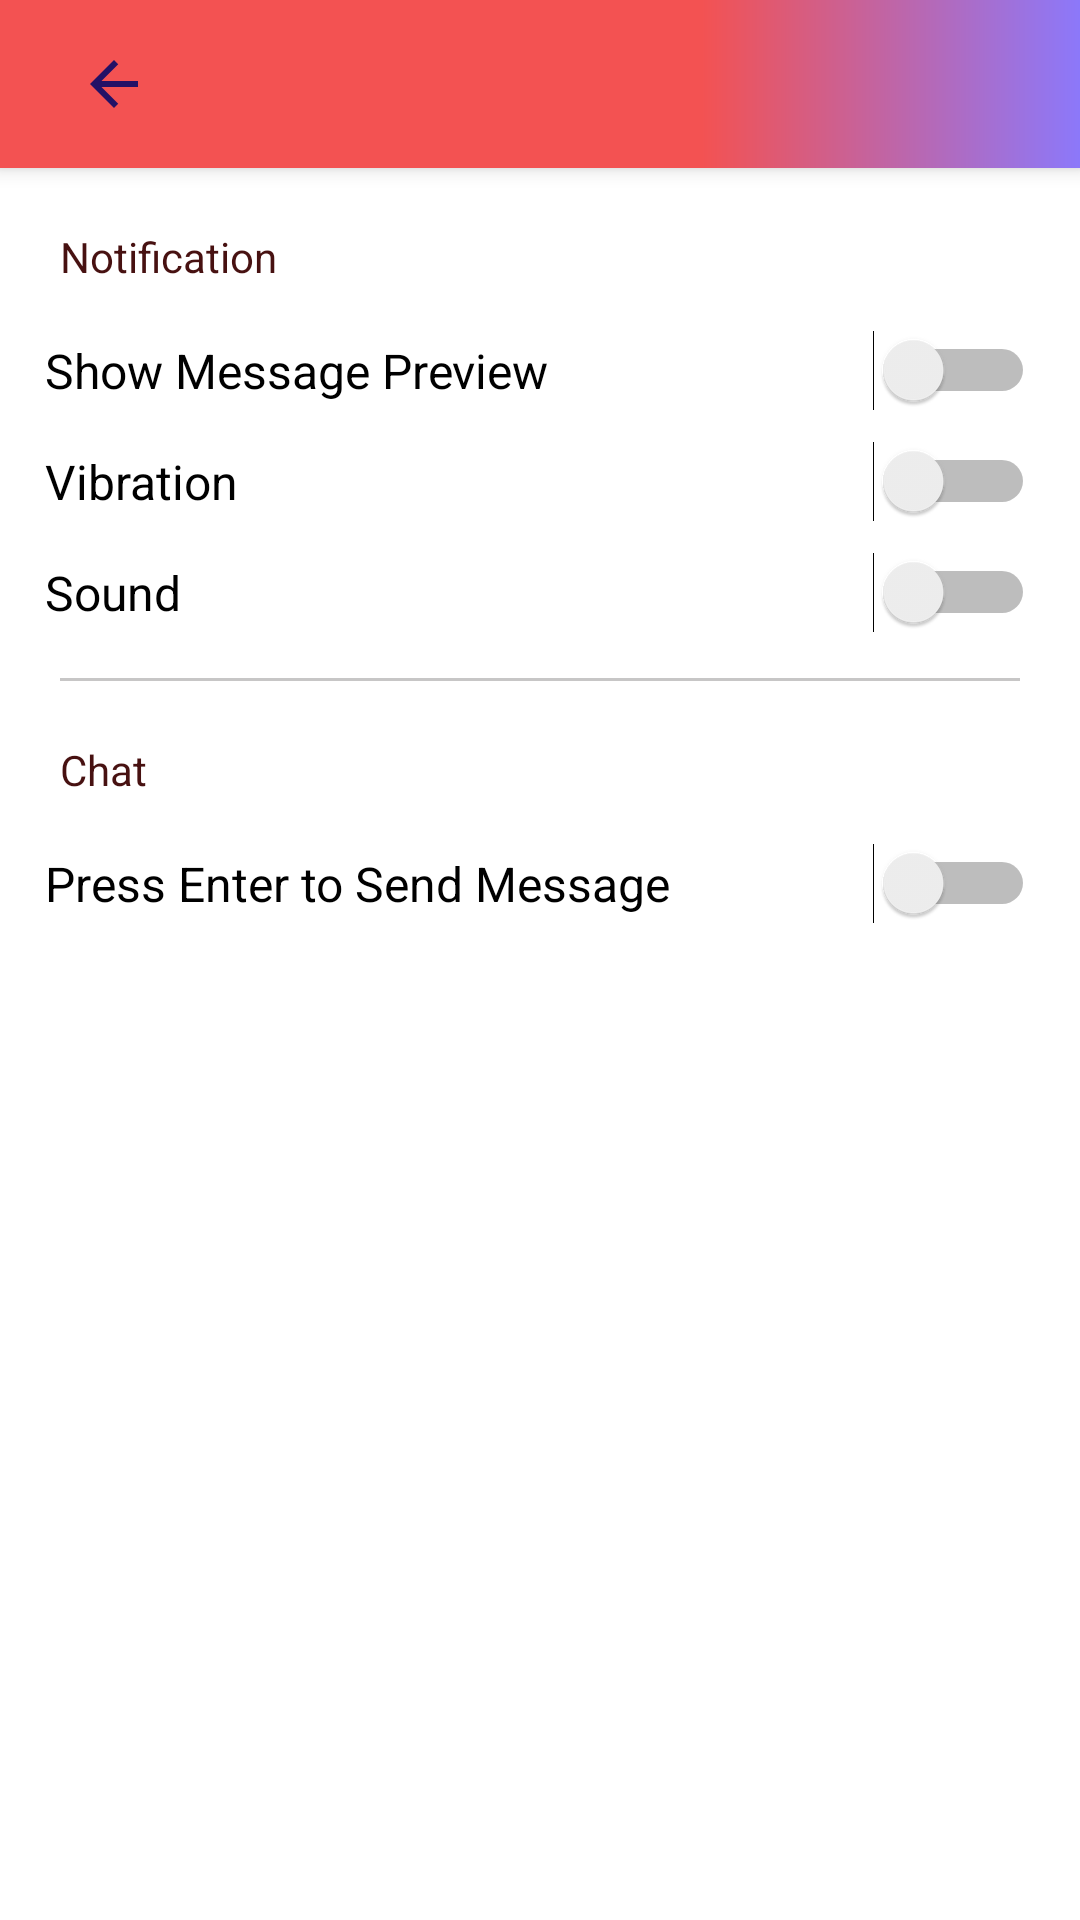

Icon bounding boxes for this 1080 × 1920 phone screenshot, format [x1,y1,x2,y2]:
arrow back: [90,60,138,108]
